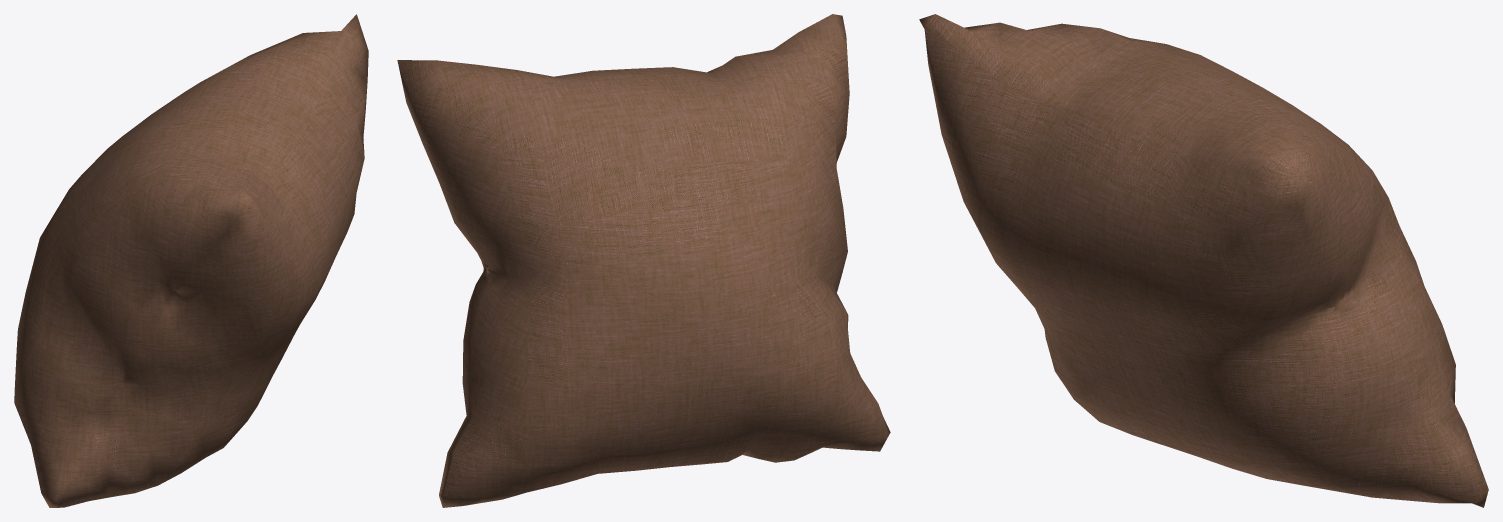
The model's file is Pillow.glb.
3 renders of one model, left to right at view 1: azimuth 30°, elevation 25°; view 2: azimuth 150°, elevation 25°; view 3: azimuth 270°, elevation 25°, orthographic. The views are drawn at different scales.
Parts seen in each view (by area): view 1: Pillow; view 2: Pillow; view 3: Pillow.
Boxes of the visible parts, x1,y1,x2,y2 form: Pillow: (14,14,368,507); Pillow: (397,14,890,507); Pillow: (919,14,1488,507).
Size of the model in its own units: 0.3965 by 0.3356 by 0.4167.
1 material, 1 textured.
